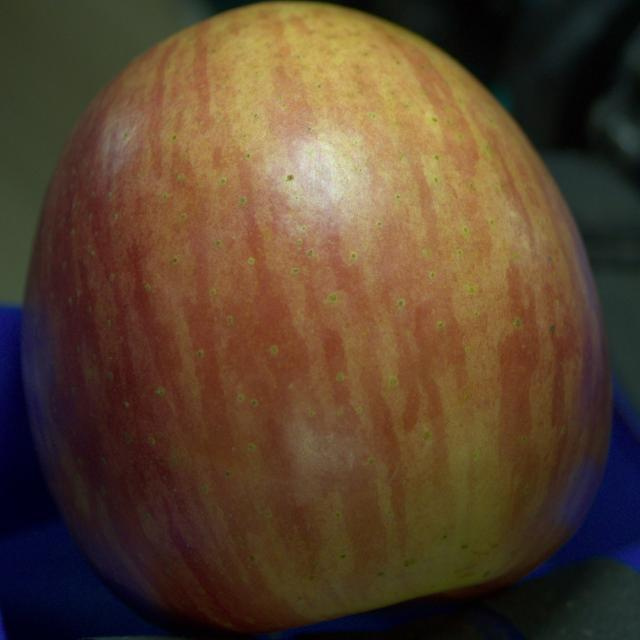apple: (21, 2, 611, 633)
